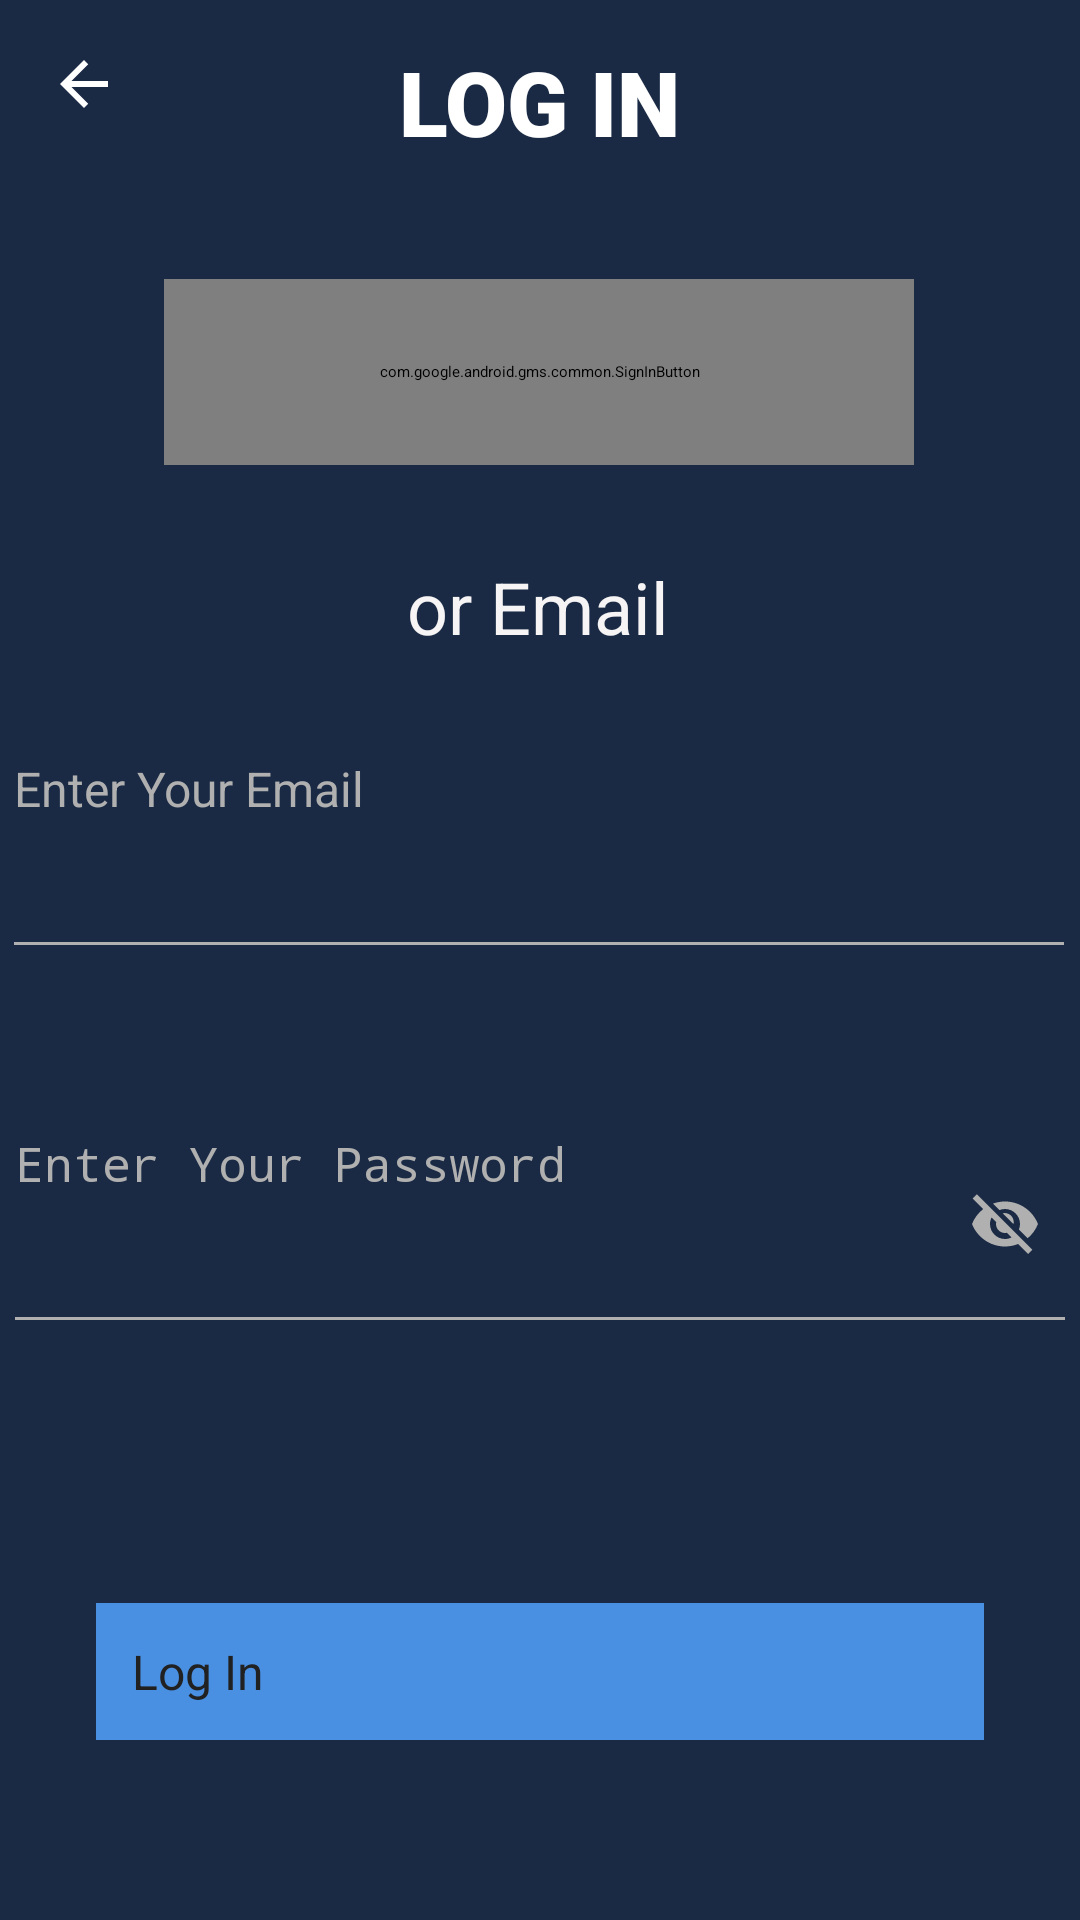

Named icons in this screenshot (1080x1920) and their bounding boxes, (x1, y1, x2, y2):
arrow back: (60, 60, 108, 108)
Toggle Password Visibility: (972, 1194, 1038, 1254)
